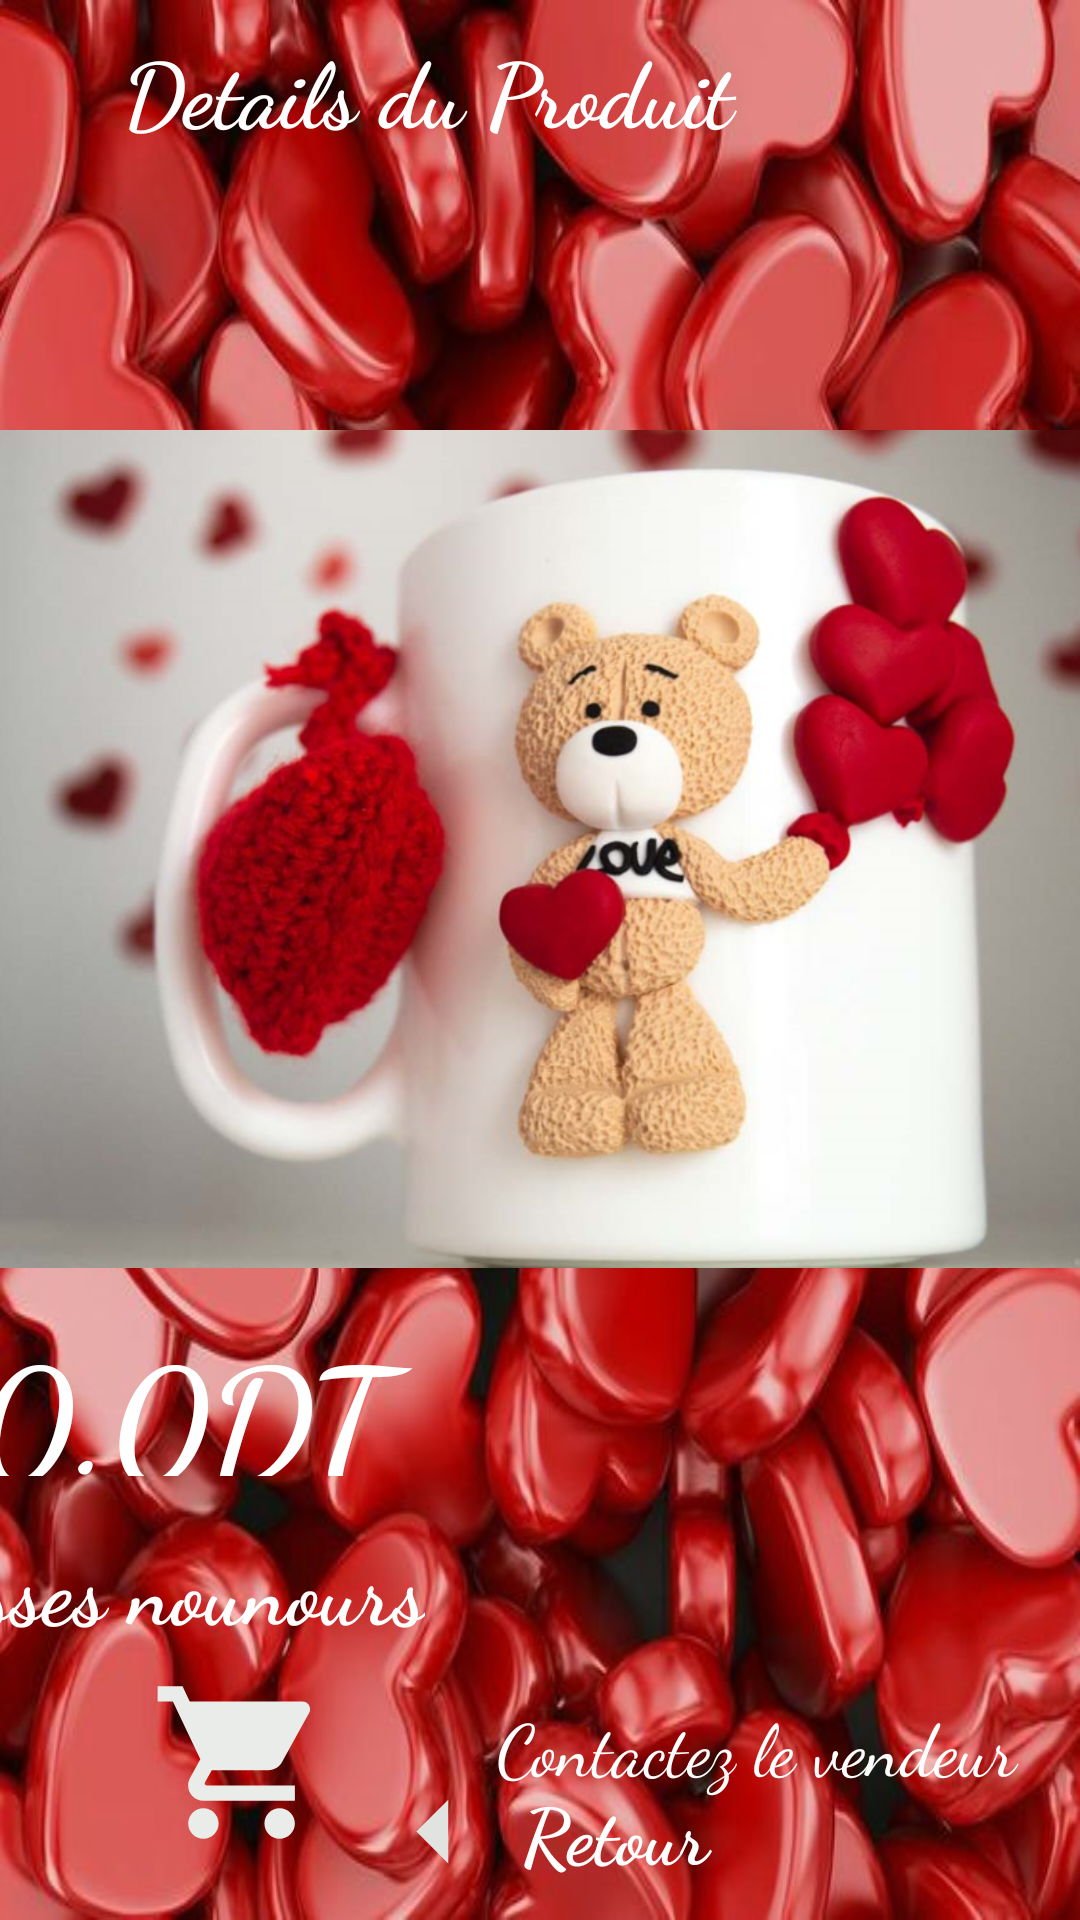

Icons on this 1080px x 1920px Android screen, each with the point to tap as point (x, y):
shoppnow: point (241, 1762)
